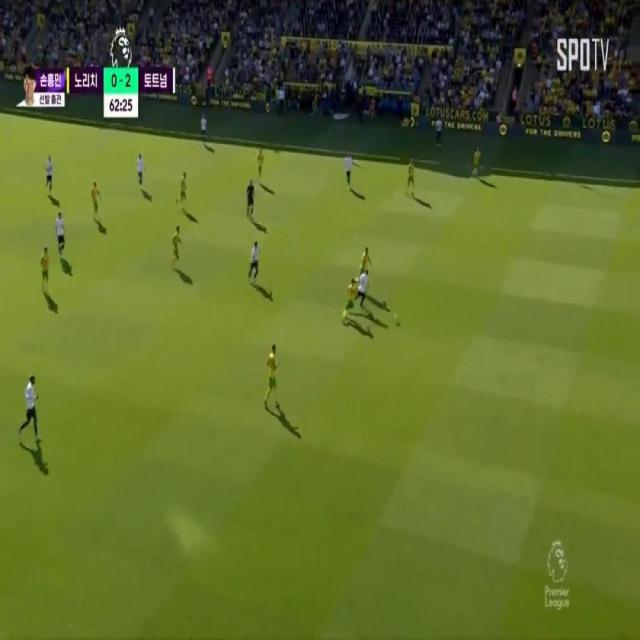ball: (394, 313, 400, 329)
player: (53, 204, 70, 277), (23, 377, 36, 461), (265, 332, 279, 409), (131, 147, 147, 199), (39, 245, 53, 304), (245, 240, 261, 283), (197, 105, 211, 150), (43, 152, 56, 199), (92, 178, 103, 233), (342, 146, 355, 192), (401, 153, 413, 201), (343, 281, 357, 322), (173, 222, 182, 277), (357, 270, 371, 305), (472, 141, 482, 189), (356, 239, 372, 269), (256, 145, 268, 184), (179, 165, 188, 214)
referee: (245, 167, 255, 222)
